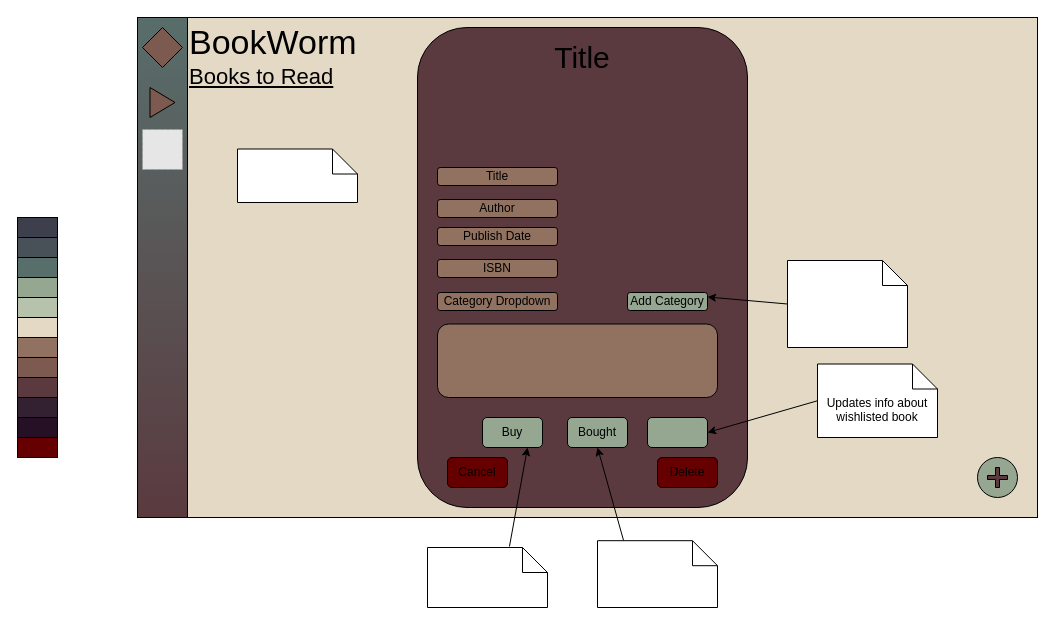
The diagram is 1055 pixels wide and 625 high, and some of its shapes have lost their labels. Grey dashed boxes stand in for pictures. Here are the shapes that lost their labels. From the top down, the centre of each, then its label:
the point at 297,175: Blur Background here
the point at 847,304: Add Category to add multiple categories to a new book
the point at 577,360: Description
the point at 677,432: Update
the point at 487,577: Redirect to buy link
the point at 657,574: Move book to reading list
